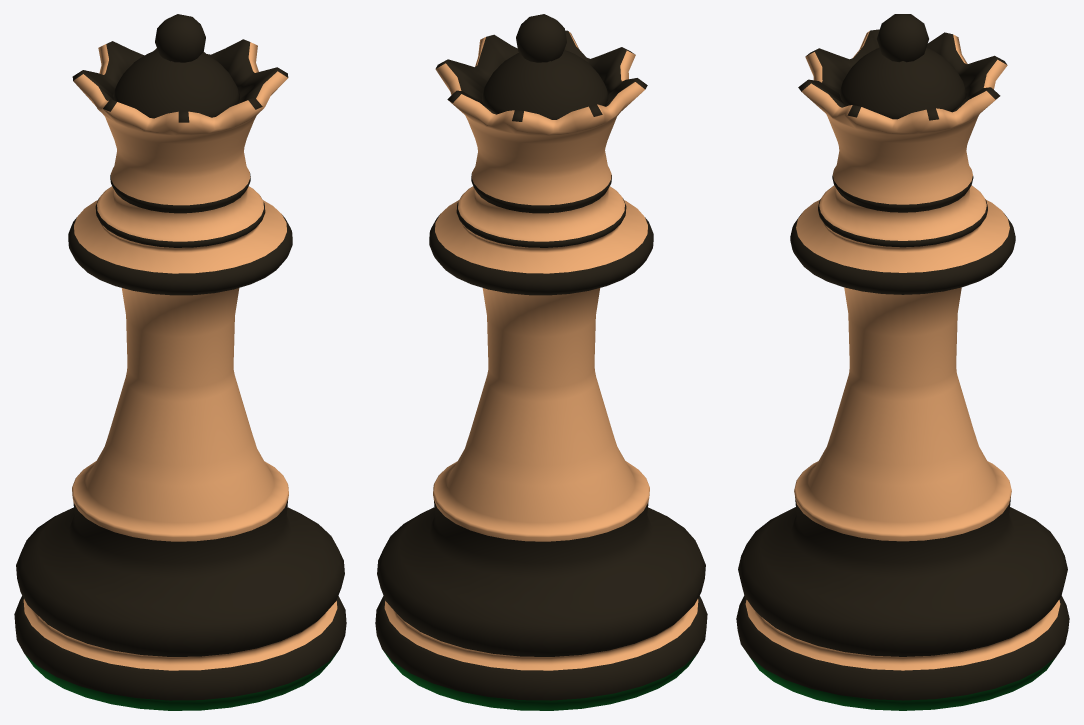
Rendered from QueenWhite.fbx.
3 views of the same model, side by side, from view 1: azimuth 30°, elevation 25°; view 2: azimuth 150°, elevation 25°; view 3: azimuth 270°, elevation 25° (orthographic).
Parts seen in each view (by area): view 1: White Queen; view 2: White Queen; view 3: White Queen.
Boxes of the visible parts, bbox=[...] form: White Queen: bbox=[14, 14, 346, 710]; White Queen: bbox=[375, 14, 707, 710]; White Queen: bbox=[736, 14, 1069, 710].
Size of the model in its own units: 4.48 by 9.35 by 4.48.
